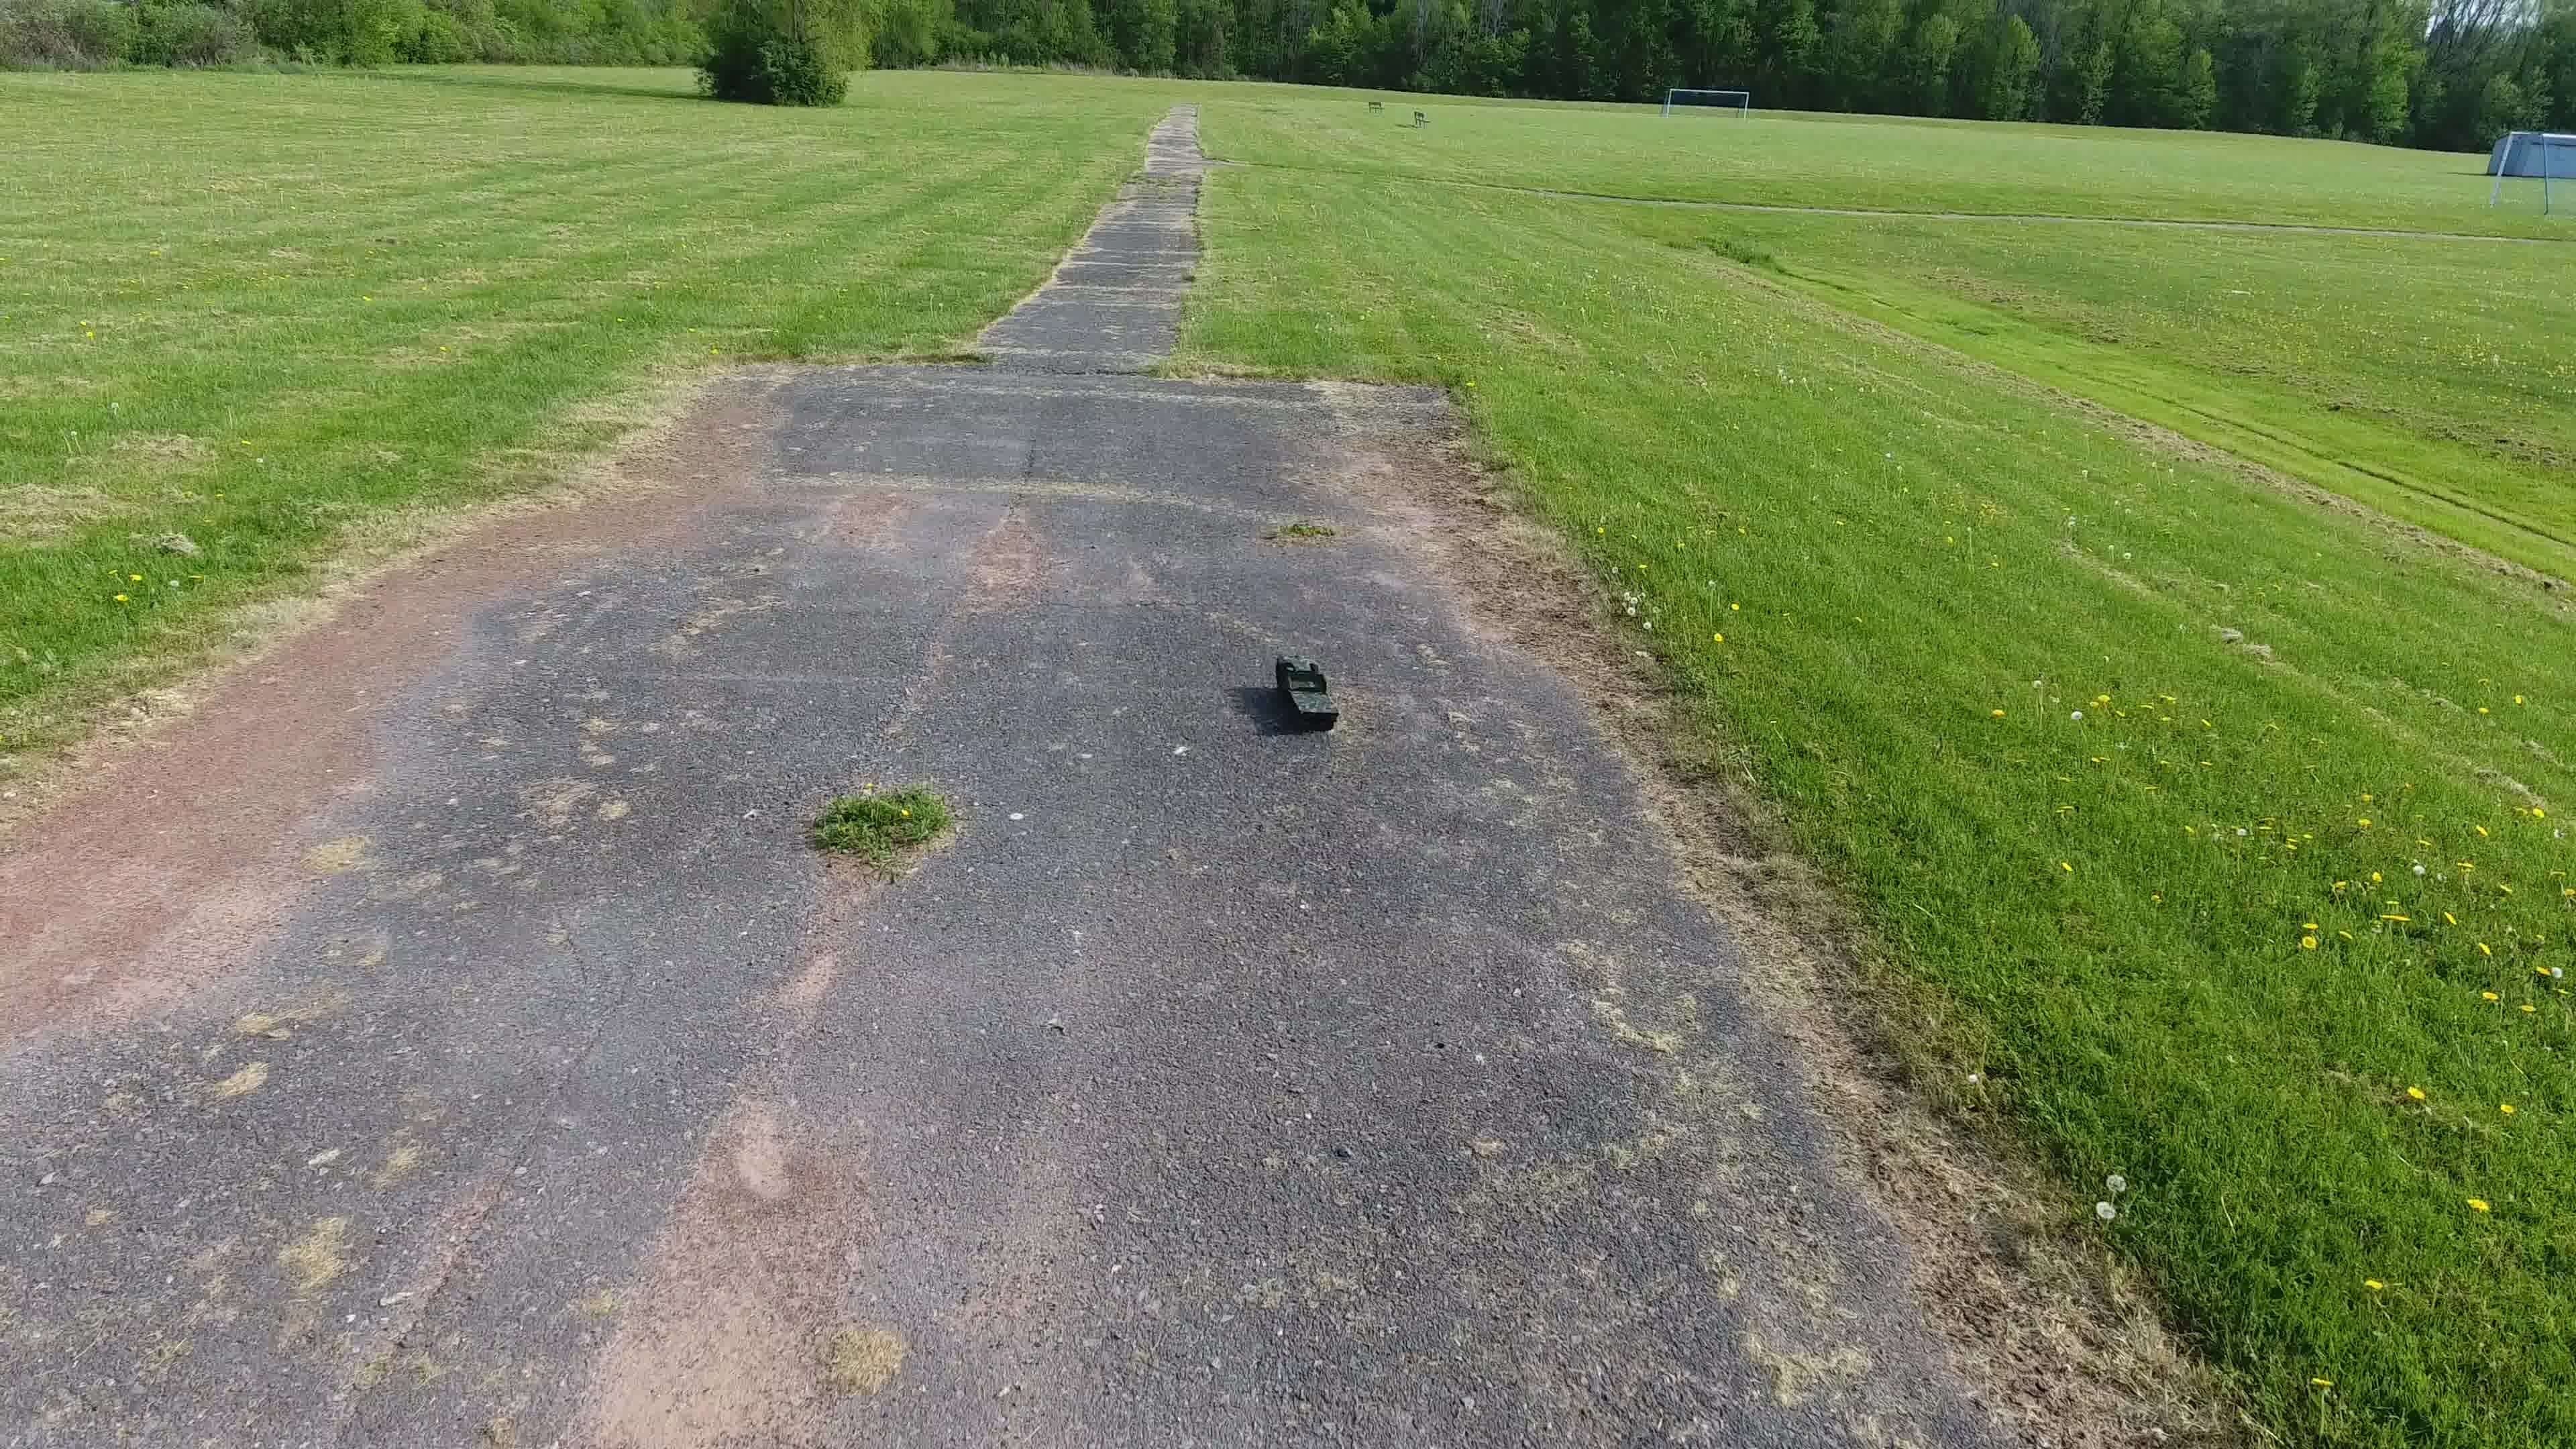transporter9_camo: (1276, 651, 1343, 725)
